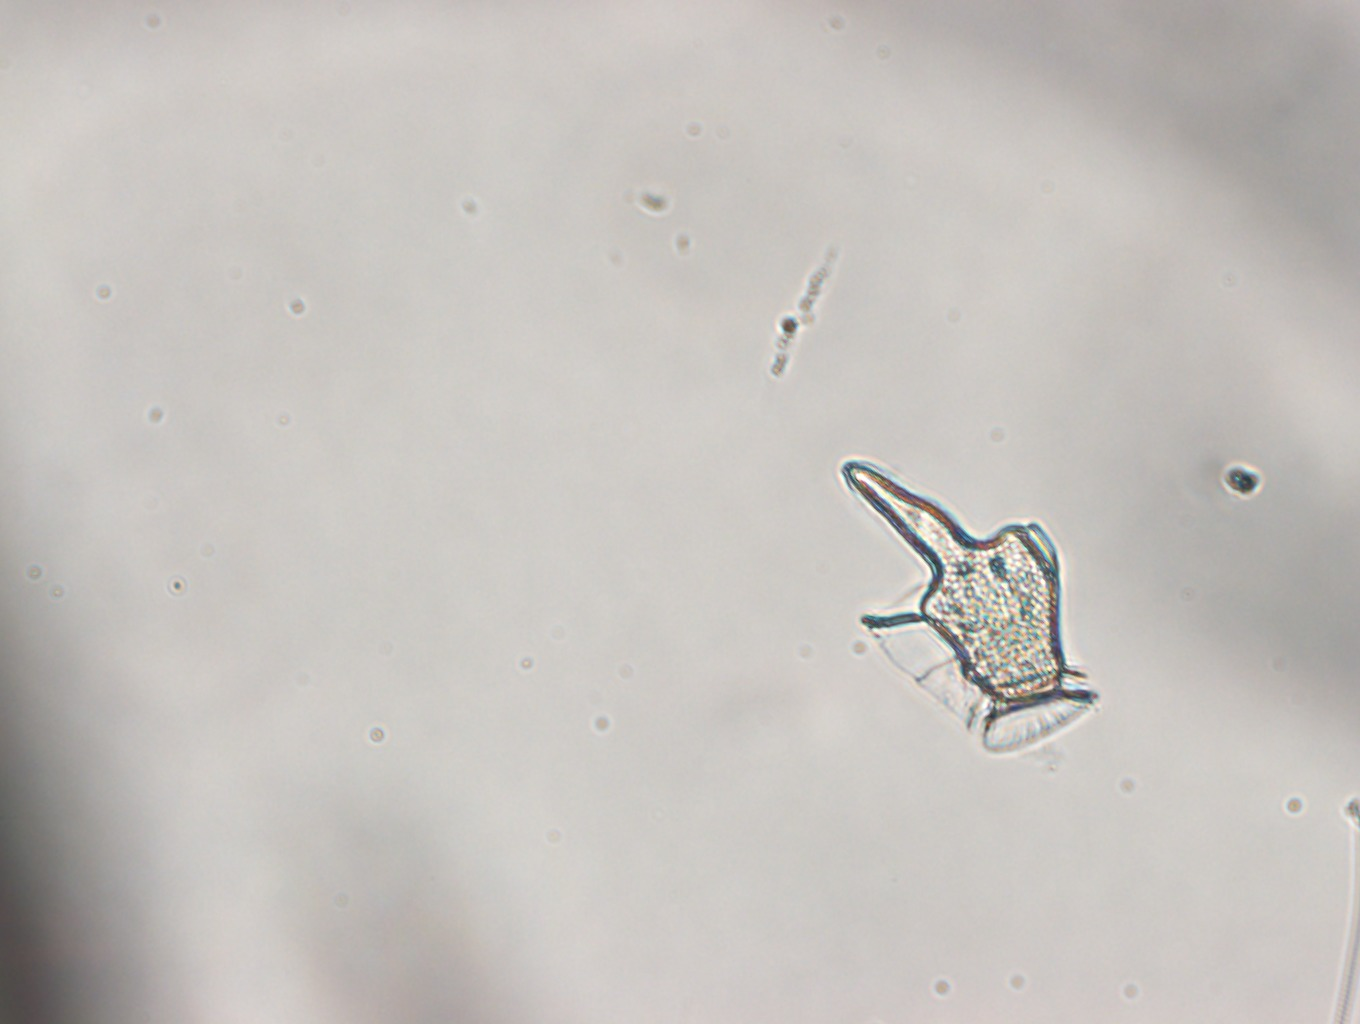dinophysis caudata: (839, 457, 1097, 751)
